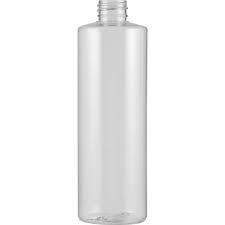Container for household chemicals: (67, 0, 165, 225)
